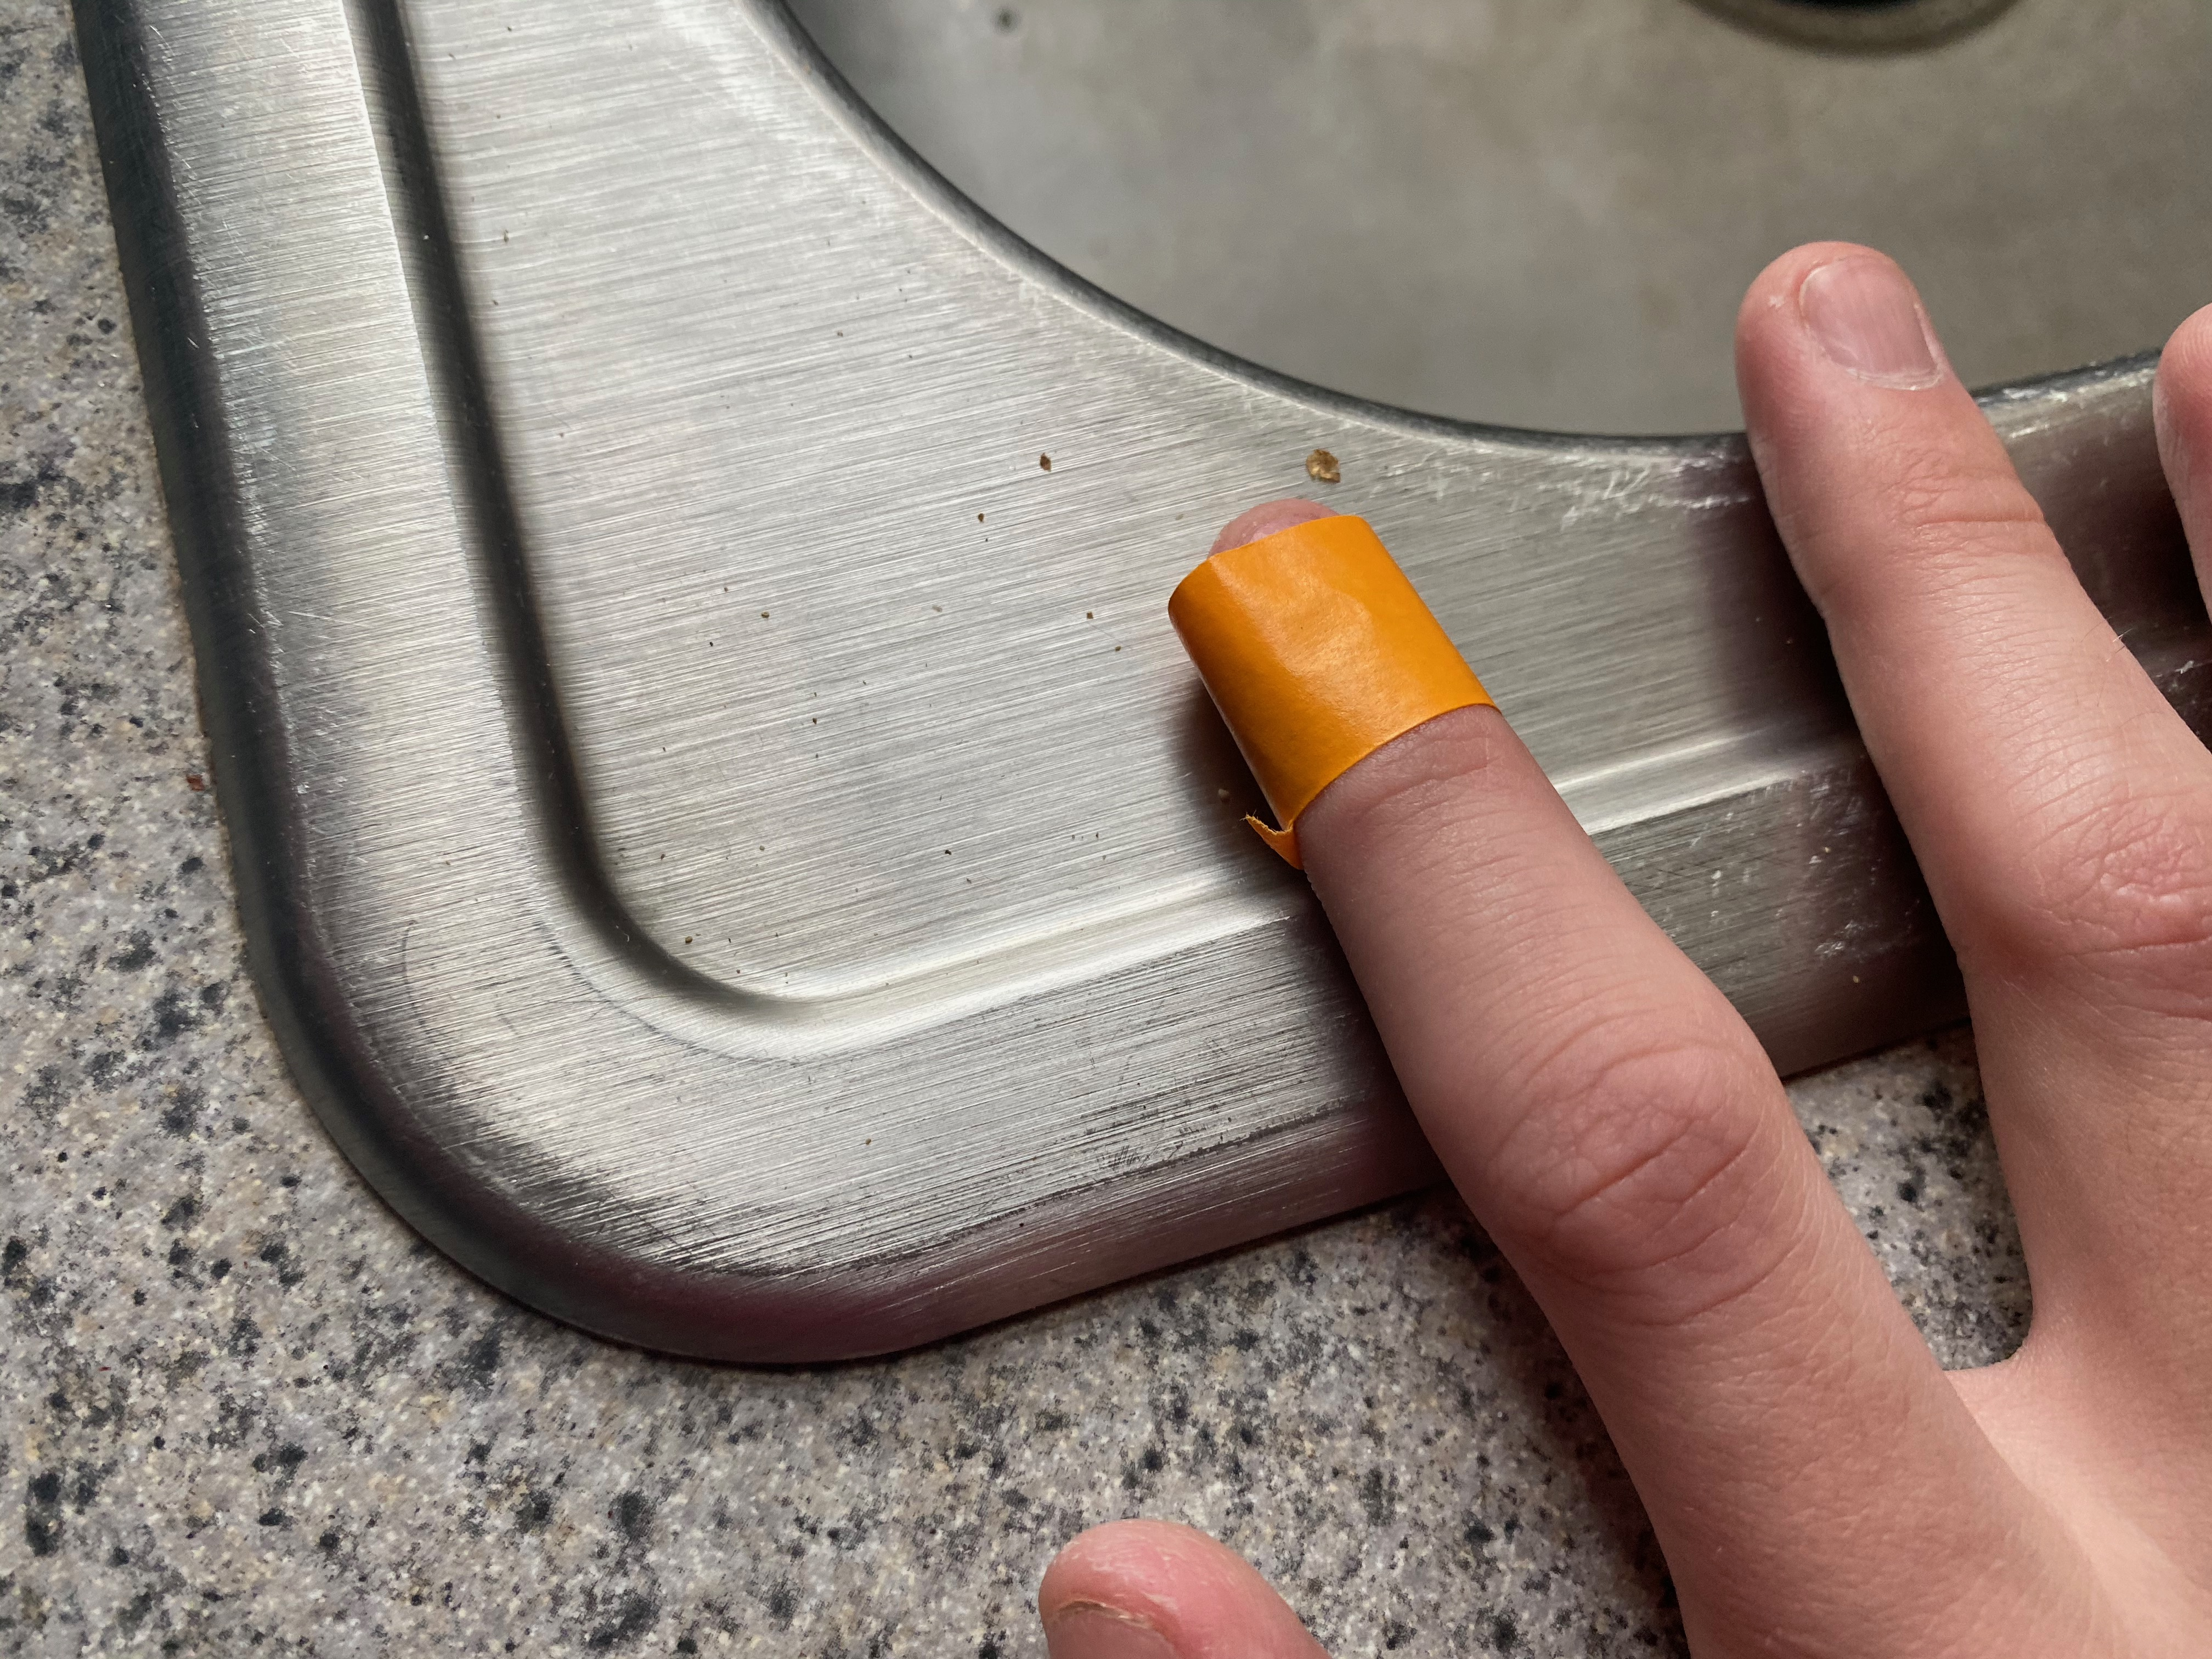fingertip: (1120, 481, 1590, 887)
